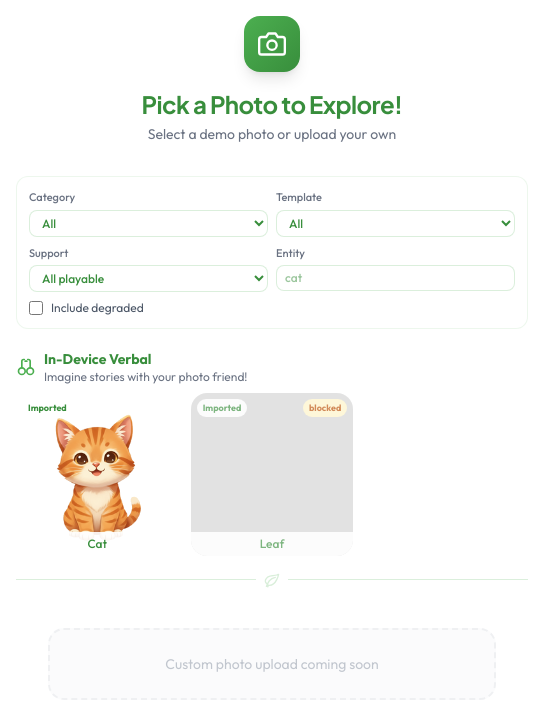
PhotoSelector autodesign activities › lets blocked imports open details so missing asset reasons are visible
Click the button named "Leaf Leaf Imported blocked".
click(272, 474)  # box [191,393,353,556]
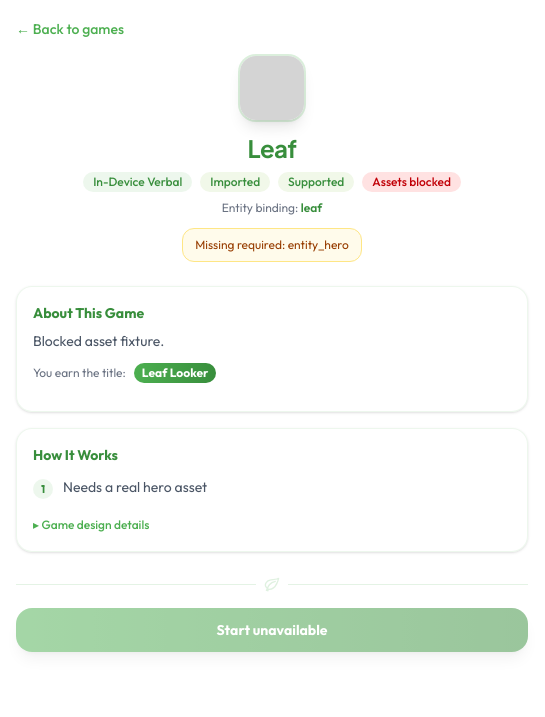
Result: the text "Missing required: entity_hero" is shown at [195,237,349,253]
Result: the button "Start unavailable" is disabled at [16,608,528,652]
